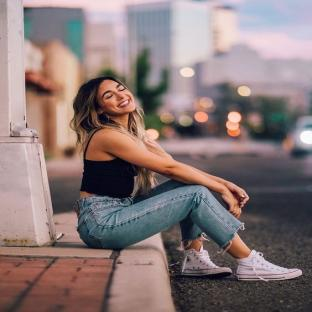Human: (70, 77, 301, 281)
